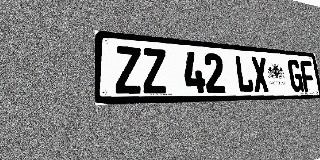2: (203, 53, 226, 93)
4: (183, 51, 206, 93)
F: (300, 60, 316, 92)
G: (287, 59, 304, 92)
L: (234, 55, 254, 93)
X: (250, 56, 270, 92)
Z: (114, 46, 143, 94), (142, 48, 168, 94)
